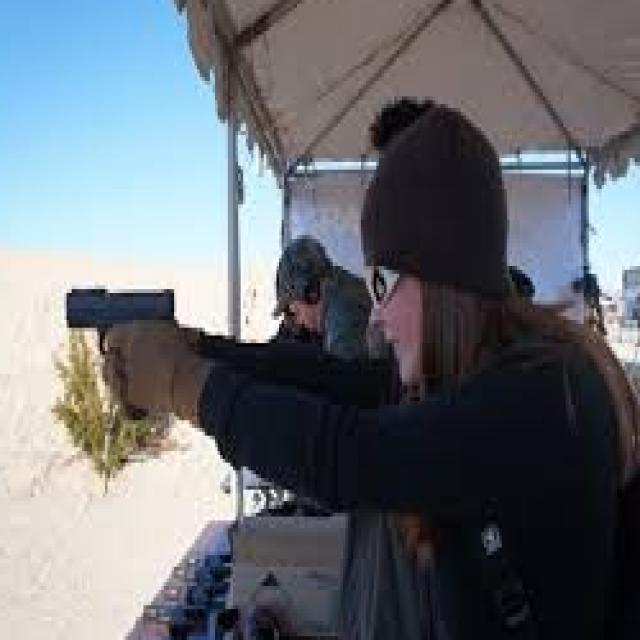Gun: (57, 272, 182, 452)
